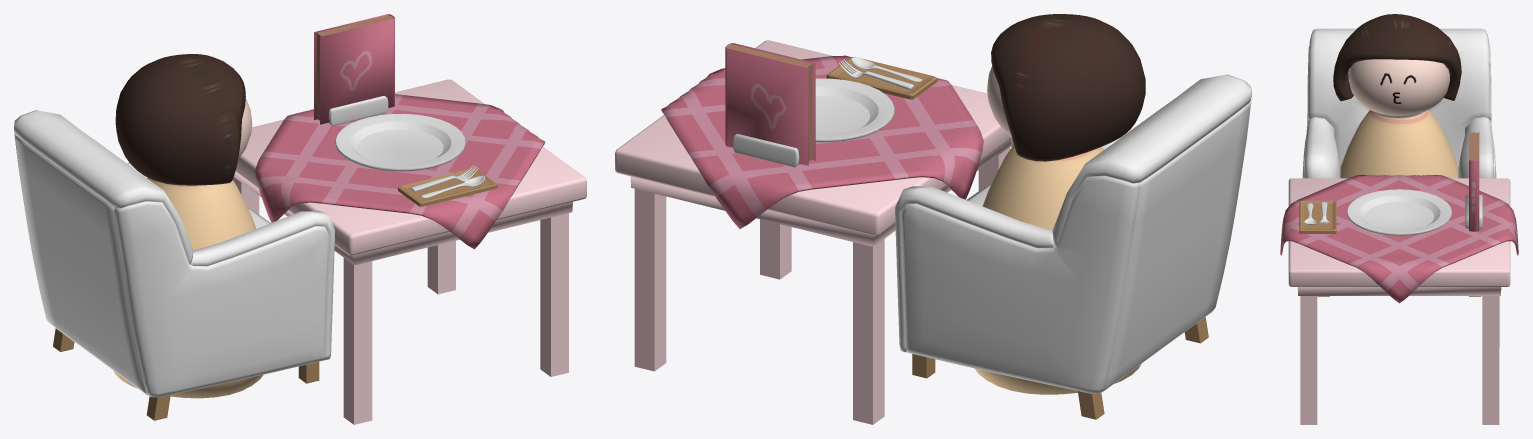
Rendered from Customer With Table Legs.fbx.
The picture shows the model from 3 angles, left to right: view 1: azimuth 30°, elevation 25°; view 2: azimuth 150°, elevation 25°; view 3: azimuth 270°, elevation 25°; orthographic projection. The views are drawn at different scales.
Parts seen in each view (by area): view 1: CHAIR, seat, hair, table, tabeleleg.002, book, plate, human, tray, menugrip, iq_Pages_Library_Book-Old_E; view 2: CHAIR, seat, hair, table, tabeleleg.002, book, human, plate, tray, menugrip, iq_Pages_Library_Book-Old_E; view 3: seat, CHAIR, human, table, hair, tabeleleg.002, plate, tray, book, iq_Pages_Library_Book-Old_E, menugrip.
Boxes of the visible parts, <box> form: CHAIR: <box>14,110,335,420</box>; seat: <box>255,94,545,249</box>; hair: <box>115,54,245,185</box>; table: <box>233,79,586,265</box>; tabeleleg.002: <box>232,177,568,424</box>; book: <box>314,14,394,124</box>; plate: <box>335,113,465,171</box>; human: <box>114,99,263,398</box>; tray: <box>398,168,497,206</box>; menugrip: <box>328,96,388,125</box>; iq_Pages_Library_Book-Old_E: <box>316,15,393,120</box>; CHAIR: <box>895,74,1251,419</box>; seat: <box>661,55,983,228</box>; hair: <box>991,14,1145,161</box>; table: <box>615,40,1011,246</box>; tabeleleg.002: <box>634,147,1010,424</box>; book: <box>725,43,815,165</box>; human: <box>974,66,1141,394</box>; plate: <box>815,78,894,142</box>; tray: <box>826,57,937,99</box>; menugrip: <box>733,134,799,167</box>; iq_Pages_Library_Book-Old_E: <box>726,44,812,161</box>; seat: <box>1280,175,1518,303</box>; CHAIR: <box>1302,28,1496,296</box>; human: <box>1340,59,1458,178</box>; table: <box>1288,178,1510,295</box>; hair: <box>1333,14,1461,101</box>; tabeleleg.002: <box>1300,296,1499,424</box>; plate: <box>1346,189,1452,235</box>; tray: <box>1299,200,1336,233</box>; book: <box>1469,131,1479,231</box>; iq_Pages_Library_Book-Old_E: <box>1469,132,1478,160</box>; menugrip: <box>1465,195,1482,228</box>.
Bounding box in the file's own units: 391 × 275 × 215.
